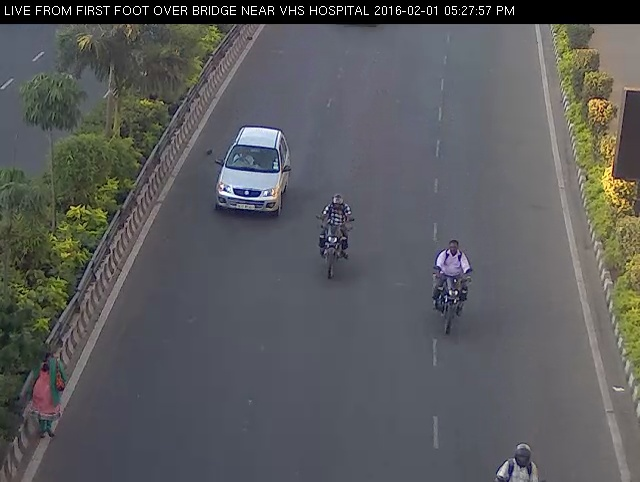Car: (203, 122, 302, 221)
Person: (419, 229, 481, 339), (19, 343, 77, 443), (312, 183, 356, 288), (489, 430, 553, 481)
